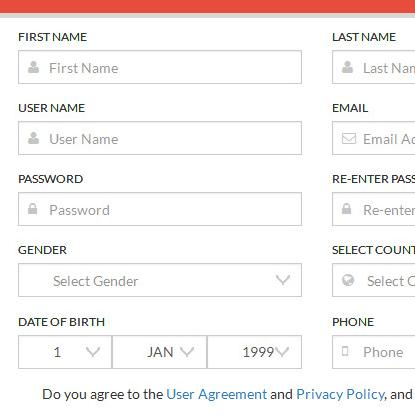field: (15, 119, 303, 156), (17, 48, 301, 84), (17, 263, 304, 298), (17, 191, 303, 226), (17, 334, 113, 370), (207, 334, 302, 370), (113, 334, 207, 370)
field_with_label: (12, 101, 304, 159), (14, 245, 306, 301), (15, 31, 304, 87), (15, 174, 305, 227), (14, 316, 115, 372)
